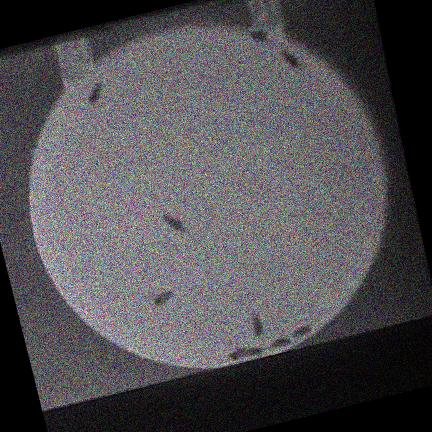fly: (280, 50, 303, 69), (161, 215, 183, 232), (252, 313, 264, 338), (89, 84, 103, 105), (249, 30, 271, 43), (154, 292, 172, 307), (228, 348, 248, 361), (270, 338, 291, 349), (292, 326, 311, 338), (248, 347, 263, 358)
